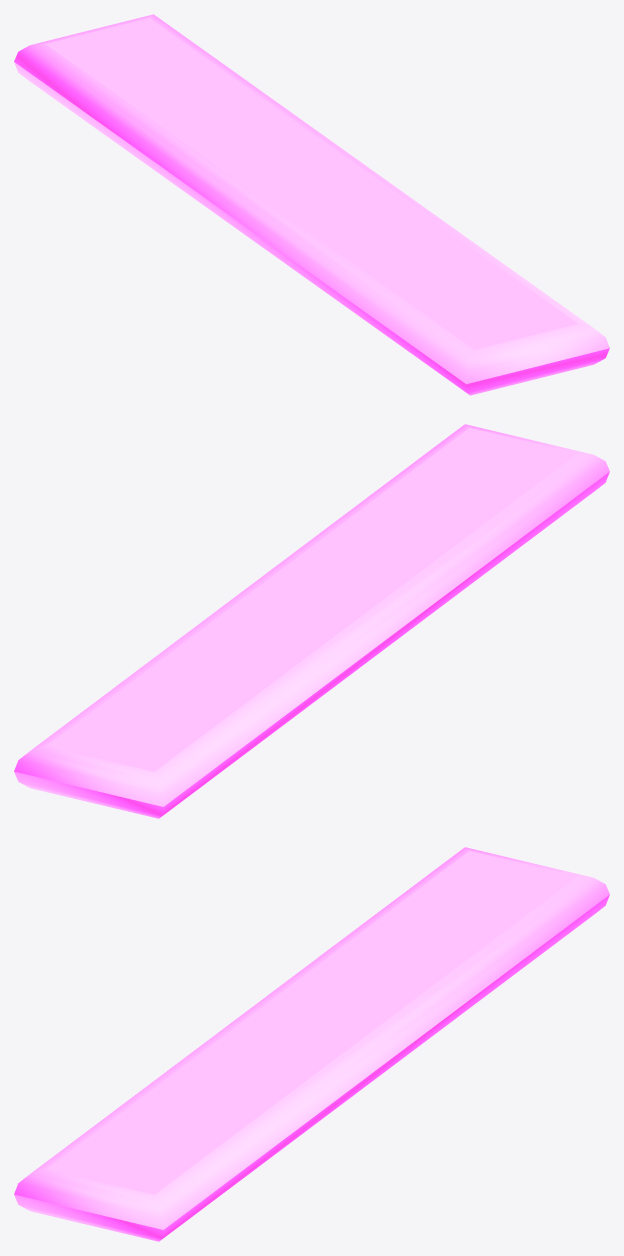
File: numb_1_purple.glb
3 views of the same model, one above another, from view 1: azimuth 30°, elevation 25°; view 2: azimuth 150°, elevation 25°; view 3: azimuth 330°, elevation 25° (orthographic). The views are drawn at different scales.
Visible parts, largest first — view 1: 1_numb_purple; view 2: 1_numb_purple; view 3: 1_numb_purple.
Boxes of the visible parts, x1,y1,x2,y2 form: 1_numb_purple: [14, 14, 609, 395]; 1_numb_purple: [14, 424, 609, 818]; 1_numb_purple: [14, 847, 609, 1241].
Size of the model in its own units: 0.4598 by 0.12 by 2.31.
